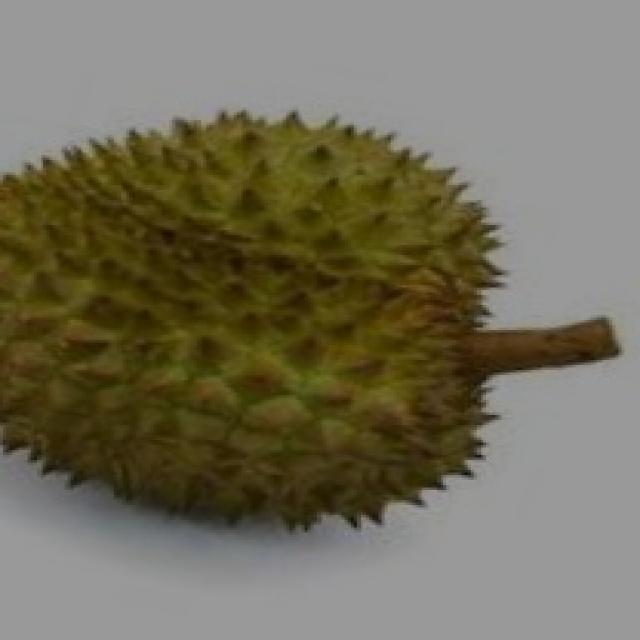fruit: (0, 207, 360, 575)
